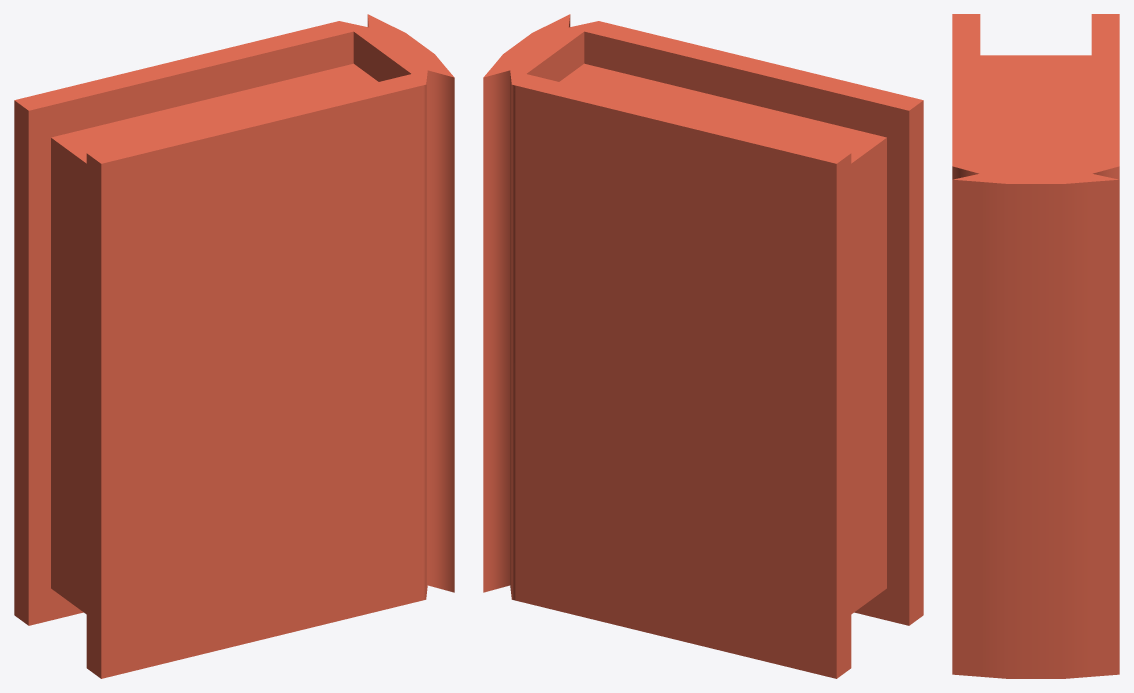
The model's file is Book_3.fbx.
The picture shows the model from 3 angles, left to right: view 1: azimuth 30°, elevation 25°; view 2: azimuth 150°, elevation 25°; view 3: azimuth 270°, elevation 25°; orthographic projection. The views are drawn at different scales.
Visible parts, largest first — view 1: Book1; view 2: Book1; view 3: Book1.
Part boxes in pixels (<box>): Book1: <box>14,14,454,678</box>; Book1: <box>483,14,923,678</box>; Book1: <box>952,14,1119,678</box>.
Bounding box in the file's own units: 1.6 × 2.17 × 0.6654.
